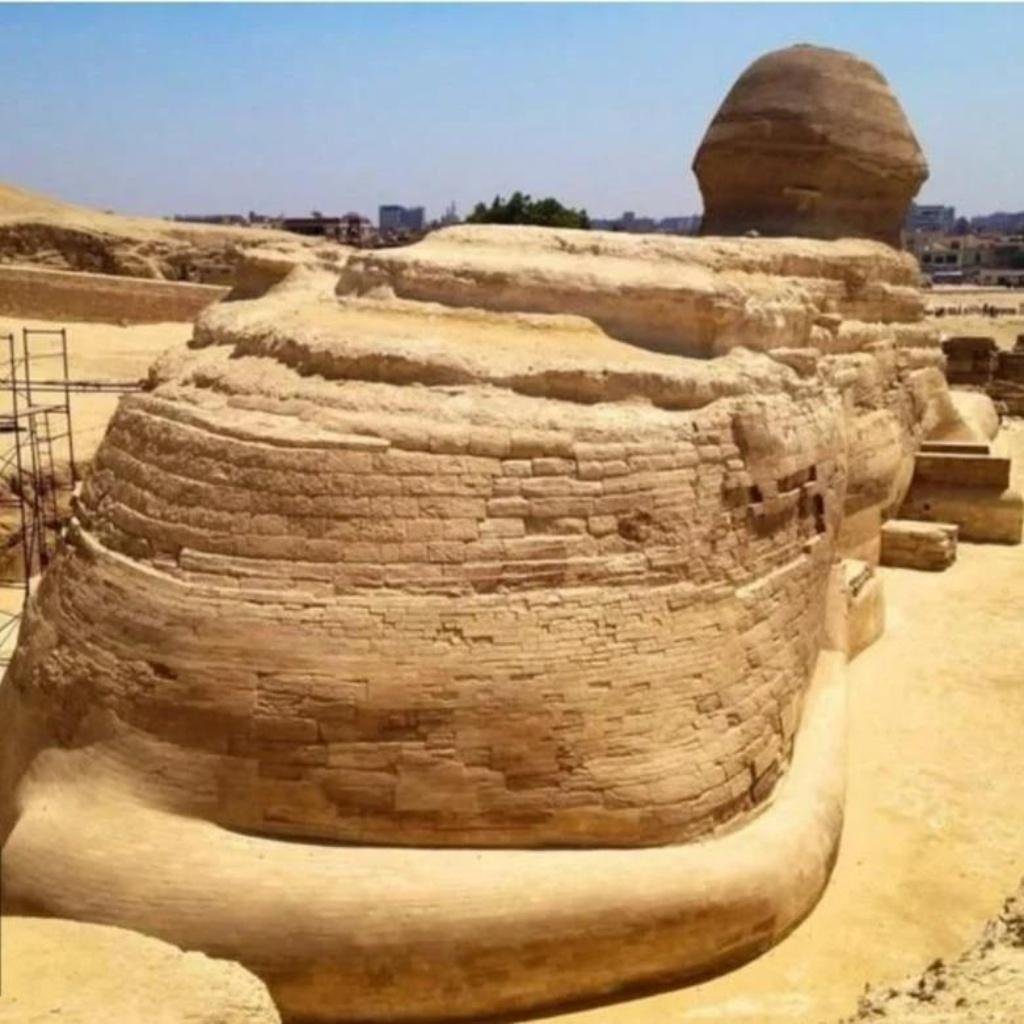Sphinx: (0, 42, 1003, 1022)
